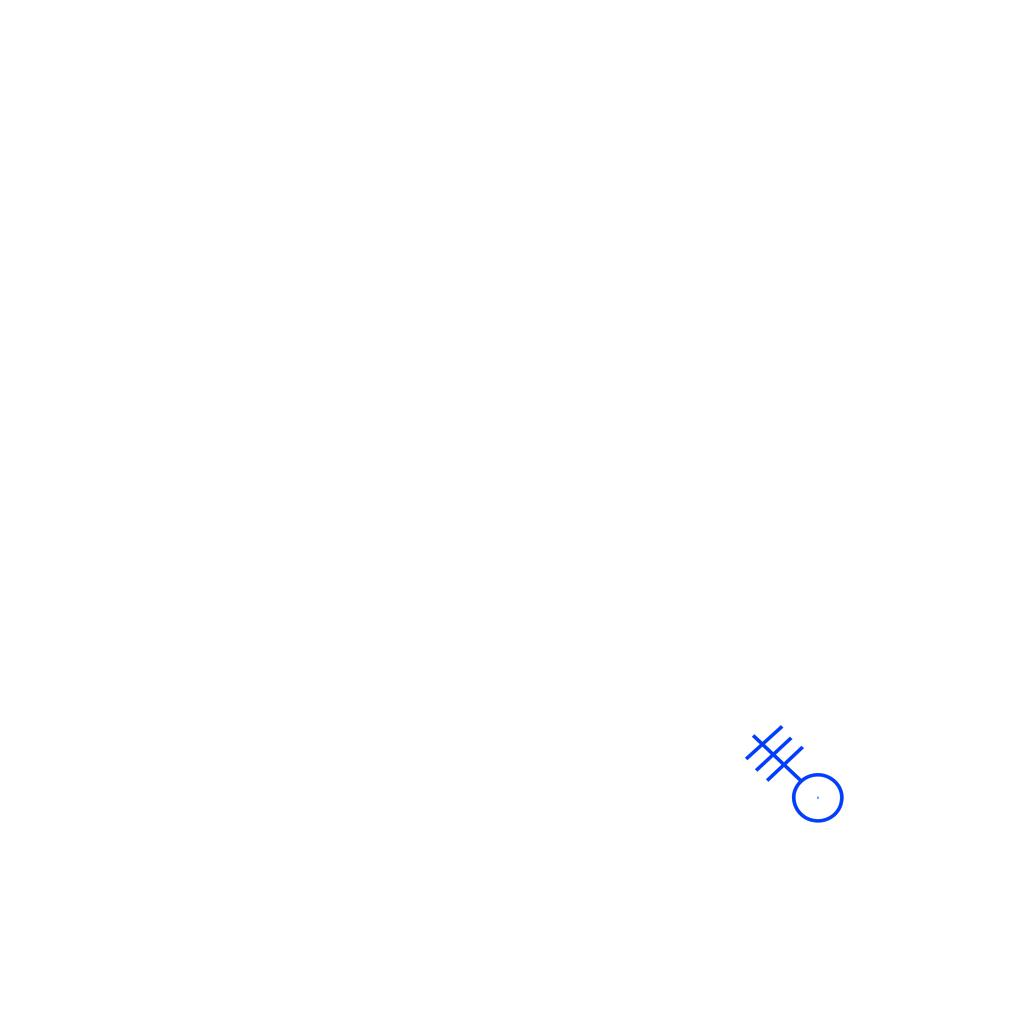Elektroanschluss_allgemein_400V_Geraeteanschlussdose_400V: (732, 724, 845, 840)
